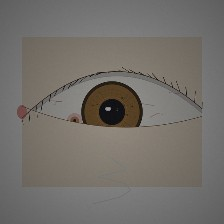foreign_body_visible: (65, 113, 84, 128)
